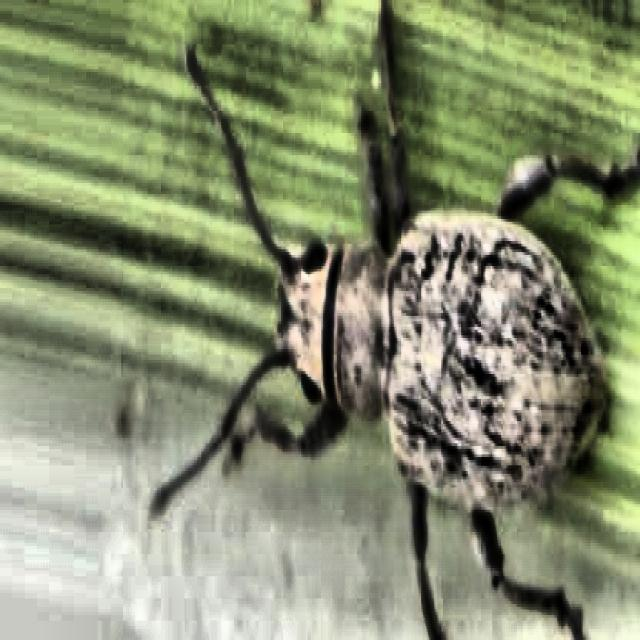Stink bug: (142, 86, 635, 608)
